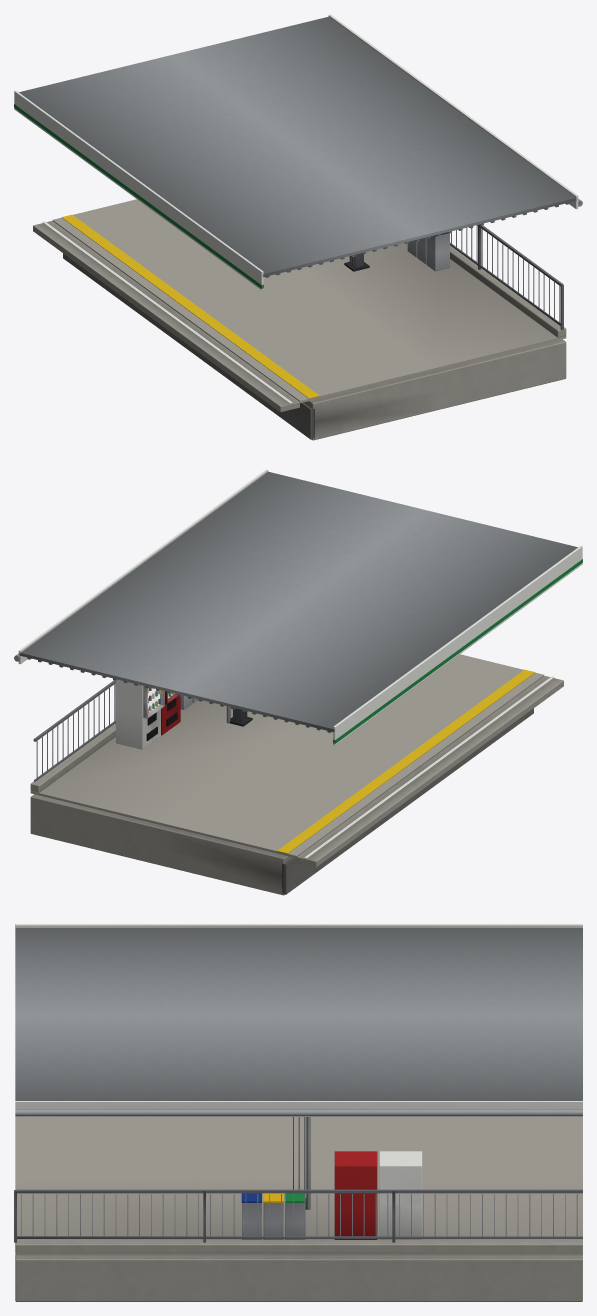
The model's file is station_bay_vend.glb.
The picture shows the model from 3 angles, top to bottom: view 1: azimuth 30°, elevation 25°; view 2: azimuth 150°, elevation 25°; view 3: azimuth 270°, elevation 25°; orthographic projection. The views are drawn at different scales.
Visible parts, largest first — view 1: station_bay_vend_galvanised, surface, station_bay_vend_concrete, station_bay_vend_paint_white, tactile, refuge_wall, station_bay_vend_paint_grey, station_bay_vend_stainless_dull, station_bay_vend_paint_green; view 2: station_bay_vend_galvanised, surface, station_bay_vend_concrete, station_bay_vend_paint_white, tactile, refuge_wall, station_bay_vend_paint_green, station_bay_vend_paint_grey, station_bay_vend_paint_red; view 3: station_bay_vend_galvanised, surface, station_bay_vend_concrete, station_bay_vend_paint_white, station_bay_vend_paint_grey, station_bay_vend_paint_red, station_bay_vend_stainless_dull.
Part boxes in pixels (bbox=[...]): station_bay_vend_galvanised: bbox=[19, 16, 582, 323]; surface: bbox=[52, 199, 566, 403]; station_bay_vend_concrete: bbox=[33, 221, 566, 440]; station_bay_vend_paint_white: bbox=[14, 14, 578, 403]; tactile: bbox=[61, 214, 319, 398]; refuge_wall: bbox=[63, 253, 314, 439]; station_bay_vend_paint_grey: bbox=[349, 224, 563, 330]; station_bay_vend_stainless_dull: bbox=[407, 233, 449, 271]; station_bay_vend_paint_green: bbox=[14, 104, 263, 288]; station_bay_vend_galvanised: bbox=[14, 471, 577, 778]; surface: bbox=[30, 654, 544, 858]; station_bay_vend_concrete: bbox=[30, 676, 563, 895]; station_bay_vend_paint_white: bbox=[18, 469, 582, 858]; tactile: bbox=[277, 669, 535, 853]; refuge_wall: bbox=[282, 708, 533, 894]; station_bay_vend_paint_green: bbox=[152, 559, 582, 743]; station_bay_vend_paint_grey: bbox=[33, 680, 247, 781]; station_bay_vend_paint_red: bbox=[148, 688, 180, 735]; station_bay_vend_galvanised: bbox=[15, 928, 582, 1236]; surface: bbox=[15, 1117, 582, 1255]; station_bay_vend_concrete: bbox=[15, 1240, 582, 1301]; station_bay_vend_paint_white: bbox=[15, 924, 582, 1239]; station_bay_vend_paint_grey: bbox=[14, 1117, 582, 1242]; station_bay_vend_paint_red: bbox=[334, 1151, 377, 1239]; station_bay_vend_stainless_dull: bbox=[242, 1203, 305, 1239].
Size of what is drawn, in the model's own units: 8.99 by 4.85 by 12.03.
Materials: 19 (17 with a texture image).
